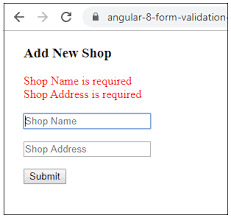error_message: (23, 76, 142, 100)
